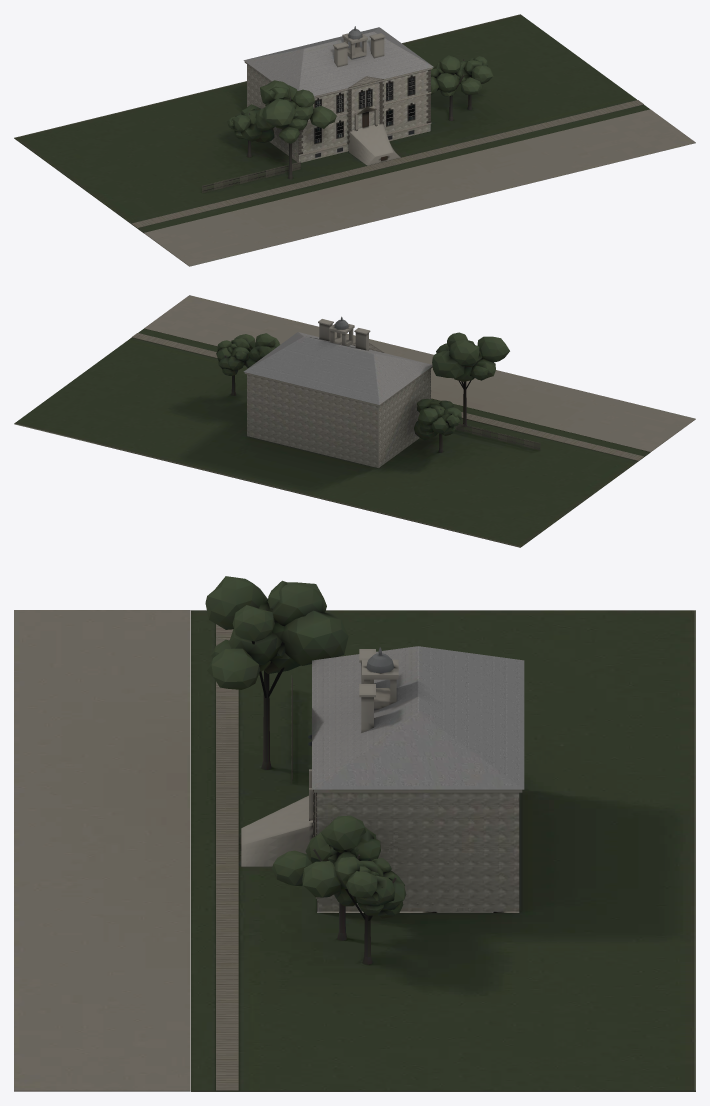
The model's file is naismith-almonte-high-school-mobile.glb.
The picture shows the model from 3 angles, top to bottom: view 1: azimuth 30°, elevation 25°; view 2: azimuth 150°, elevation 25°; view 3: azimuth 270°, elevation 25°; orthographic projection. The views are drawn at different scales.
Parts seen in each view (by area): view 1: yard_grass, road, artifact_school, roof, sidewalk, artifact_elm, artifact_entrance, tree_right_0, artifact_windows, artifact_belfry_and_chimneys, tree_left_back, fence_left (+3 smaller); view 2: yard_grass, road, artifact_school, roof, artifact_elm, sidewalk, tree_left_back, tree_right_1, artifact_belfry_and_chimneys, fence_left, tree_right_0, stone_bands; view 3: yard_grass, road, roof, artifact_school, artifact_elm, sidewalk, tree_right_0, tree_right_1, artifact_entrance, artifact_belfry_and_chimneys, stone_bands.
Part boxes in pixels (bbox=[...]): yard_grass: bbox=[14, 14, 649, 233]; road: bbox=[144, 109, 695, 266]; artifact_school: bbox=[247, 64, 430, 162]; roof: bbox=[243, 27, 433, 96]; sidewalk: bbox=[131, 100, 643, 227]; artifact_elm: bbox=[255, 80, 336, 179]; artifact_entrance: bbox=[349, 107, 400, 165]; tree_right_0: bbox=[430, 55, 493, 120]; artifact_windows: bbox=[314, 75, 415, 157]; artifact_belfry_and_chimneys: bbox=[333, 26, 385, 67]; tree_left_back: bbox=[227, 104, 274, 157]; fence_left: bbox=[202, 161, 300, 193]; yard_grass: bbox=[14, 328, 650, 547]; road: bbox=[144, 295, 695, 451]; artifact_school: bbox=[247, 369, 430, 467]; roof: bbox=[243, 332, 432, 404]; artifact_elm: bbox=[432, 332, 509, 426]; sidewalk: bbox=[131, 333, 643, 460]; tree_left_back: bbox=[414, 399, 461, 452]; tree_right_1: bbox=[216, 338, 256, 395]; artifact_belfry_and_chimneys: bbox=[318, 316, 370, 350]; fence_left: bbox=[455, 423, 540, 450]; tree_right_0: bbox=[234, 333, 280, 361]; stone_bands: bbox=[244, 366, 432, 406]; yard_grass: bbox=[191, 610, 695, 1091]; road: bbox=[14, 610, 190, 1091]; roof: bbox=[312, 646, 524, 789]; artifact_school: bbox=[314, 792, 519, 912]; artifact_elm: bbox=[205, 576, 348, 769]; sidewalk: bbox=[216, 624, 238, 1090]; tree_right_0: bbox=[271, 815, 380, 940]; tree_right_1: bbox=[333, 856, 406, 964]; artifact_entrance: bbox=[240, 769, 313, 866]; artifact_belfry_and_chimneys: bbox=[359, 647, 398, 732]; stone_bands: bbox=[314, 789, 522, 898].
Size of what is drawn, in the model's own units: 90 by 18.39 by 54.
Materials: 3 (2 with a texture image).
